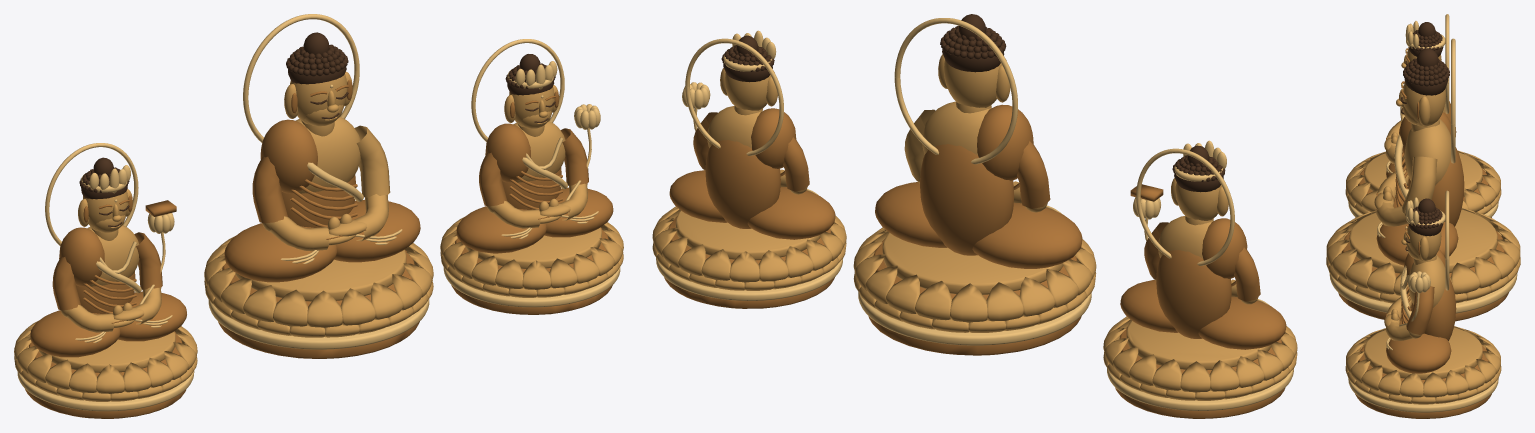
File: buddha-altar.glb
3 views of the same model, side by side, from view 1: azimuth 30°, elevation 25°; view 2: azimuth 150°, elevation 25°; view 3: azimuth 270°, elevation 25° (orthographic). The views are drawn at different scales.
Parts seen in each view (by area): view 1: Warm aged gilt bronze, Saffron bronze drapery, Polished raised edges, Recessed bronze details; view 2: Saffron bronze drapery, Warm aged gilt bronze, Polished raised edges, Recessed bronze details; view 3: Warm aged gilt bronze, Saffron bronze drapery, Polished raised edges, Recessed bronze details.
Boxes of the visible parts, bbox=[...] form: Warm aged gilt bronze: bbox=[14, 71, 623, 401]; Saffron bronze drapery: bbox=[25, 79, 613, 418]; Polished raised edges: bbox=[17, 14, 620, 411]; Recessed bronze details: bbox=[79, 32, 555, 226]; Saffron bronze drapery: bbox=[664, 60, 1286, 418]; Warm aged gilt bronze: bbox=[652, 54, 1297, 400]; Polished raised edges: bbox=[656, 18, 1293, 410]; Recessed bronze details: bbox=[721, 14, 1225, 192]; Warm aged gilt bronze: bbox=[1326, 49, 1520, 404]; Saffron bronze drapery: bbox=[1338, 48, 1508, 418]; Polished raised edges: bbox=[1329, 14, 1517, 412]; Recessed bronze details: bbox=[1401, 22, 1449, 251].
Bounding box in the file's own units: 6.73 × 3.35 × 2.28.
